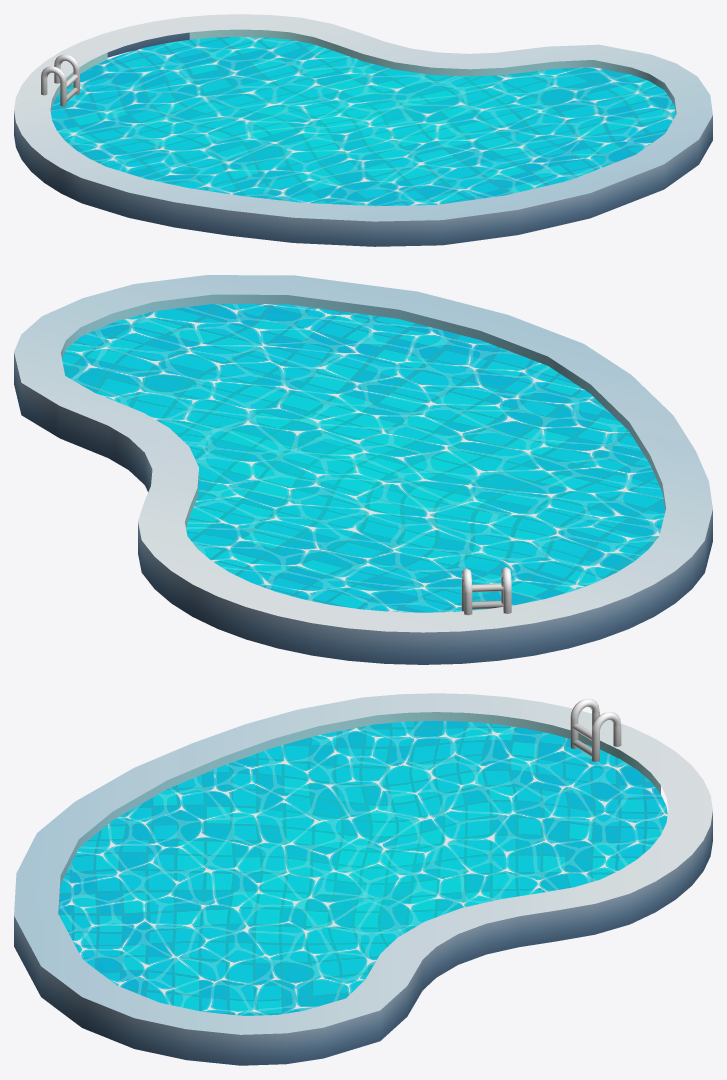
File: Swimming_Pool.fbx
The picture shows the model from 3 angles, top to bottom: view 1: azimuth 30°, elevation 25°; view 2: azimuth 150°, elevation 25°; view 3: azimuth 270°, elevation 25°; orthographic projection. The views are drawn at different scales.
Parts seen in each view (by area): view 1: Swimming_Pool; view 2: Swimming_Pool; view 3: Swimming_Pool.
Part boxes in pixels (x1=…): Swimming_Pool: x1=14, y1=14, x2=712, y2=246; Swimming_Pool: x1=14, y1=275, x2=712, y2=664; Swimming_Pool: x1=14, y1=693, x2=712, y2=1065.
Bounding box in the file's own units: 129 × 11.77 × 112.
2 materials, 2 textured.
